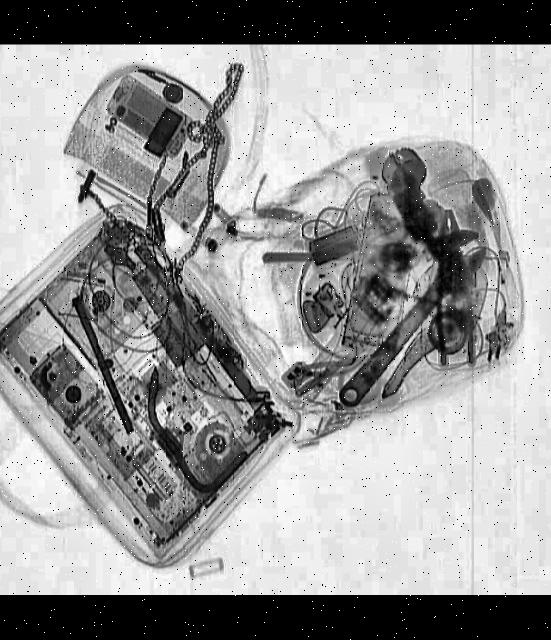Pliers: (432, 207, 475, 366)
Wrench: (321, 218, 498, 416)
